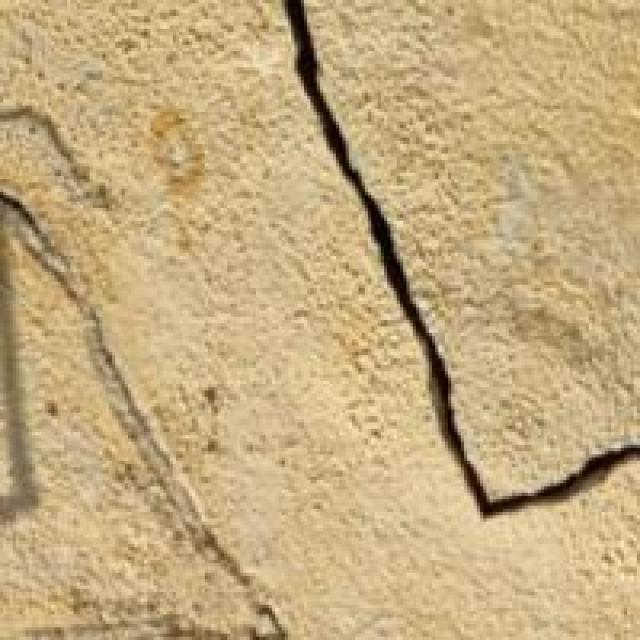Crack: (234, 0, 636, 586)
